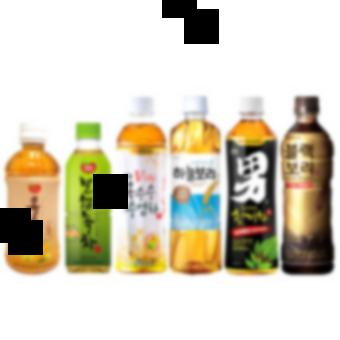haneulbori: (169, 94, 224, 275)
heotgaecha: (225, 96, 281, 276)
oksususuyeomcha: (112, 95, 168, 275)
